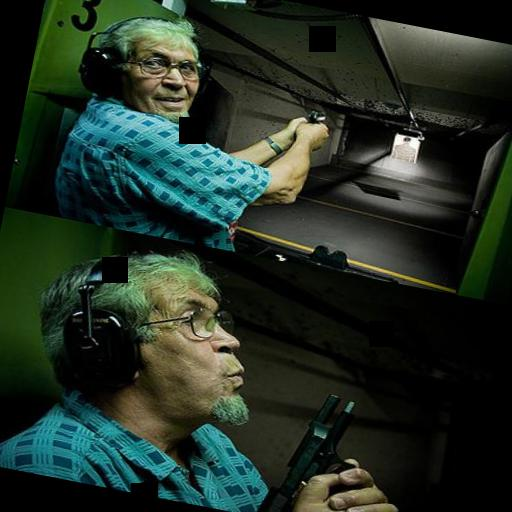Handgun: (253, 380, 375, 512), (299, 106, 329, 123)
